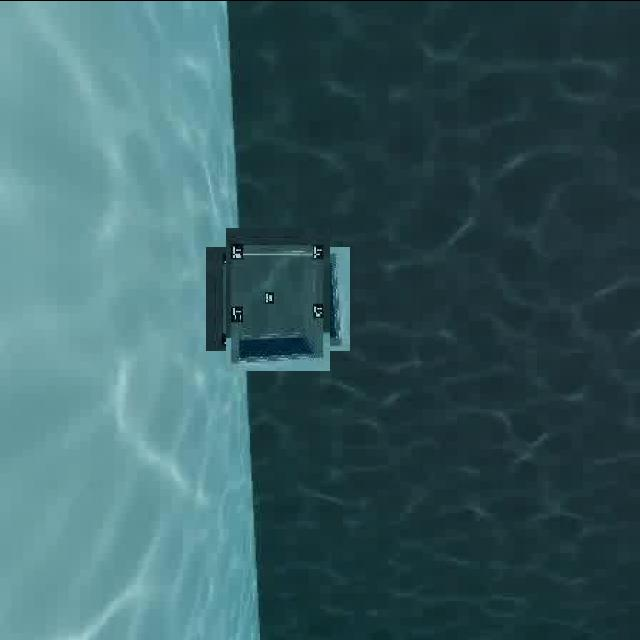Docking Station: (216, 236, 340, 360)
